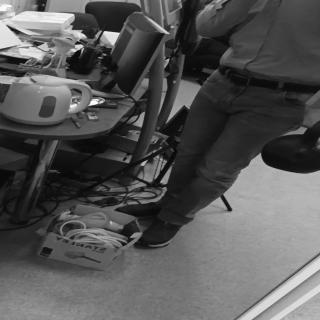kettlebell: (263, 118, 320, 174)
